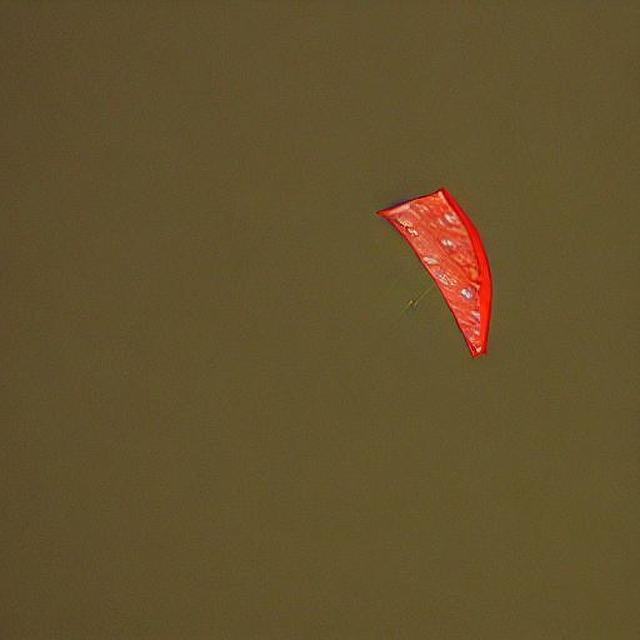floating object: (366, 186, 496, 356)
